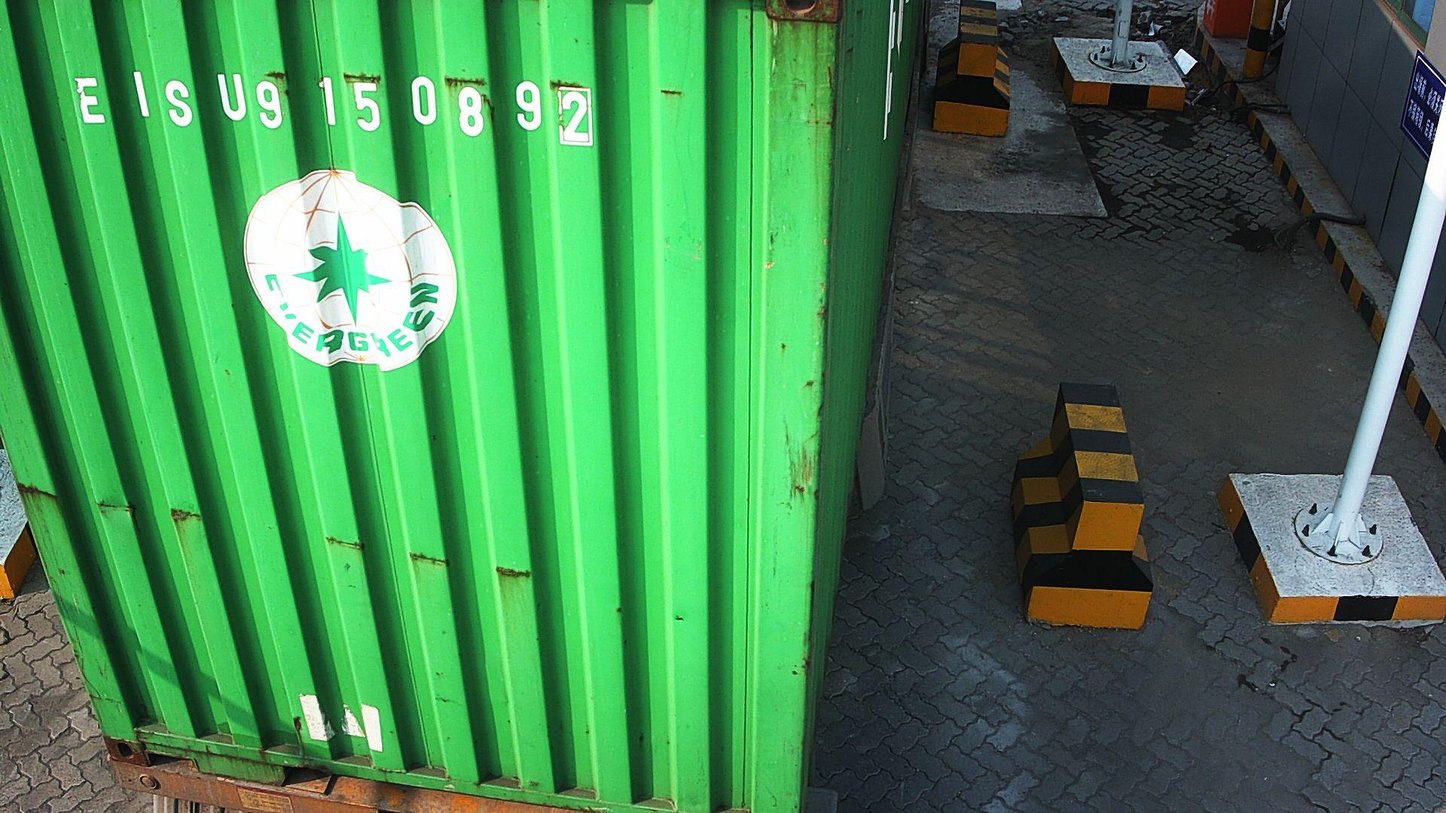container-numbers: (71, 64, 596, 149)
